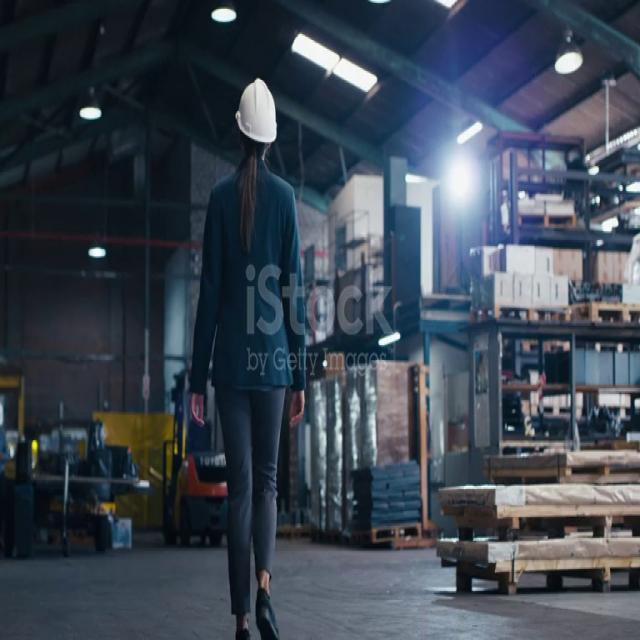capacete: (234, 67, 287, 157)
